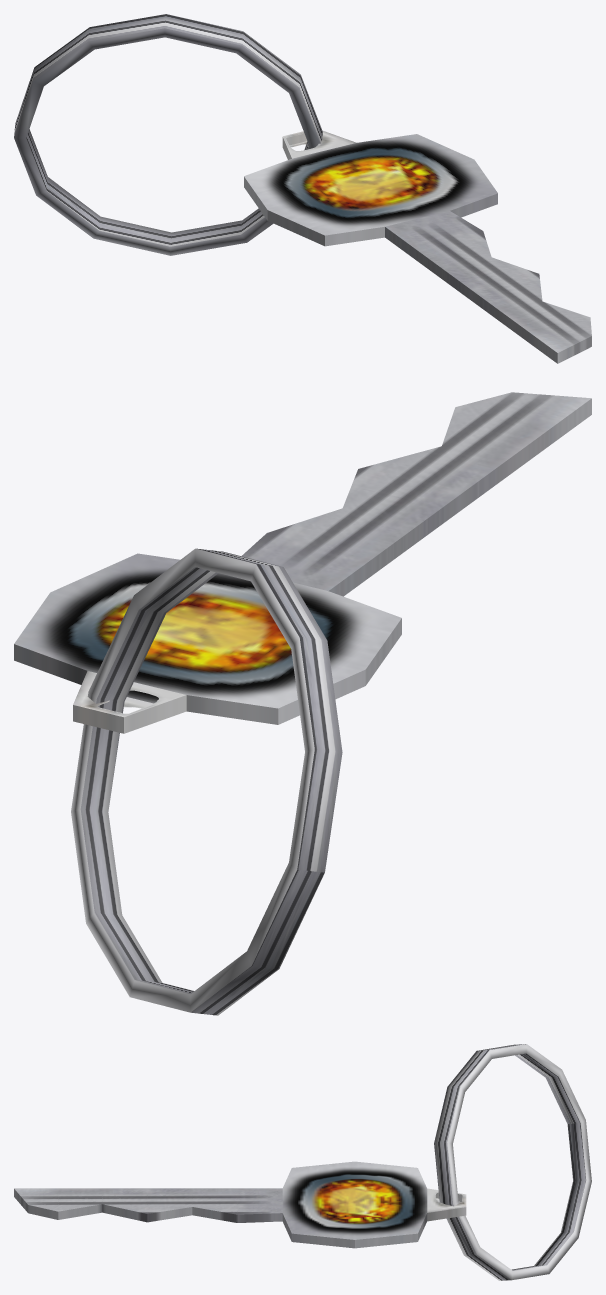
File: key_j_topaz.fbx
3 views of the same model, one above another, from view 1: azimuth 30°, elevation 25°; view 2: azimuth 150°, elevation 25°; view 3: azimuth 270°, elevation 25° (orthographic). The views are drawn at different scales.
Visible parts, largest first — view 1: key_j_topaz; view 2: key_j_topaz; view 3: key_j_topaz.
Boxes of the visible parts, x1,y1,x2,y2 form: key_j_topaz: (14, 14, 591, 363); key_j_topaz: (14, 392, 591, 1015); key_j_topaz: (14, 1044, 591, 1280).
Size of the model in its own units: 10.09 by 8.2 by 20.29.
1 material, 1 textured.
